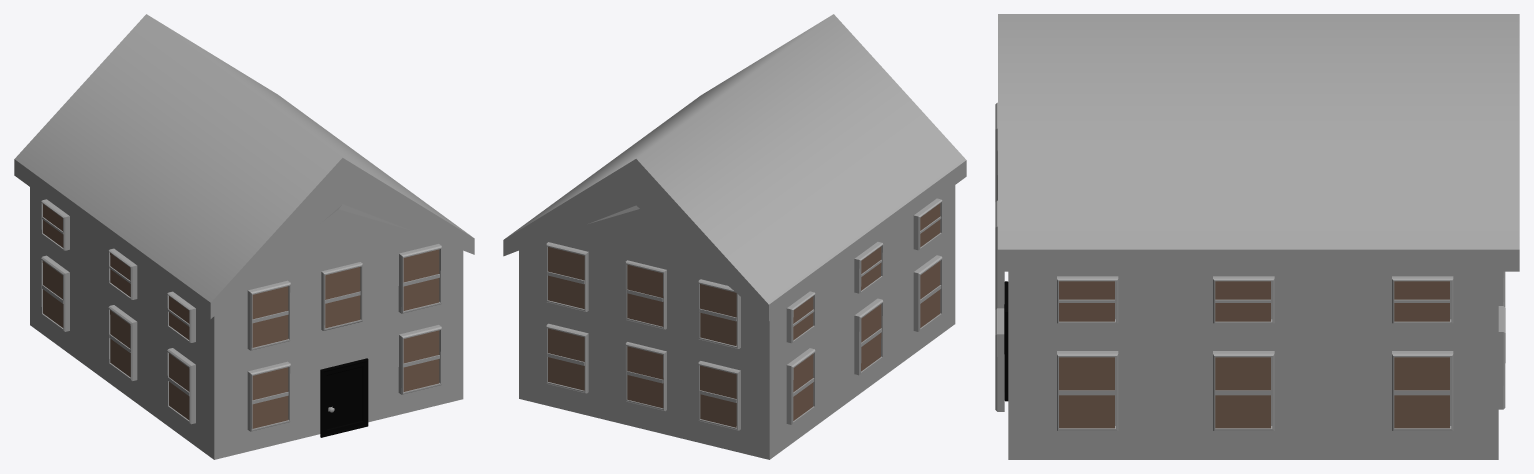
Rendered from House2.fbx.
The picture shows the model from 3 angles, left to right: view 1: azimuth 30°, elevation 25°; view 2: azimuth 150°, elevation 25°; view 3: azimuth 270°, elevation 25°; orthographic projection. The views are drawn at different scales.
Visible parts, largest first — view 1: pCube248, pSphere31, polySurface597, polySurface596, polySurface594, polySurface593, polySurface595, polySurface584, polySurface582, polySurface586, polySurface583, polySurface581 (+1 smaller); view 2: pCube248, polySurface575, polySurface576, polySurface578, polySurface579, polySurface580, polySurface577, polySurface586, polySurface582, polySurface584, polySurface581, polySurface585 (+1 smaller); view 3: pCube248, polySurface588, polySurface590, polySurface592, polySurface589, polySurface591, polySurface587, polySurface593, polySurface575, pSphere31, polySurface594.
Boxes of the visible parts, <box> form: pCube248: <box>14,14,474,459</box>; pSphere31: <box>320,358,368,437</box>; polySurface597: <box>247,361,290,431</box>; polySurface596: <box>247,280,290,350</box>; polySurface594: <box>398,244,441,313</box>; polySurface593: <box>398,325,441,394</box>; polySurface595: <box>321,262,362,330</box>; polySurface584: <box>108,305,137,380</box>; polySurface582: <box>41,255,69,331</box>; polySurface586: <box>167,348,195,424</box>; polySurface583: <box>108,248,137,299</box>; polySurface581: <box>41,199,69,250</box>; pCube248: <box>503,14,966,459</box>; polySurface575: <box>546,323,588,393</box>; polySurface576: <box>698,361,740,430</box>; polySurface578: <box>546,242,588,311</box>; polySurface579: <box>698,279,740,348</box>; polySurface580: <box>625,260,666,329</box>; polySurface577: <box>625,342,666,411</box>; polySurface586: <box>913,255,942,331</box>; polySurface582: <box>786,348,815,424</box>; polySurface584: <box>854,298,883,375</box>; polySurface581: <box>786,291,815,343</box>; polySurface585: <box>913,198,942,250</box>; pCube248: <box>998,14,1519,459</box>; polySurface588: <box>1057,351,1118,430</box>; polySurface590: <box>1213,351,1274,430</box>; polySurface592: <box>1392,351,1453,430</box>; polySurface589: <box>1213,276,1274,323</box>; polySurface591: <box>1392,276,1453,323</box>; polySurface587: <box>1057,276,1118,323</box>; polySurface593: <box>995,308,1004,411</box>; polySurface575: <box>1498,306,1505,409</box>; pSphere31: <box>1004,281,1008,401</box>; polySurface594: <box>995,200,1004,304</box>.
Bounding box in the file's own units: 104 × 105 × 135.
